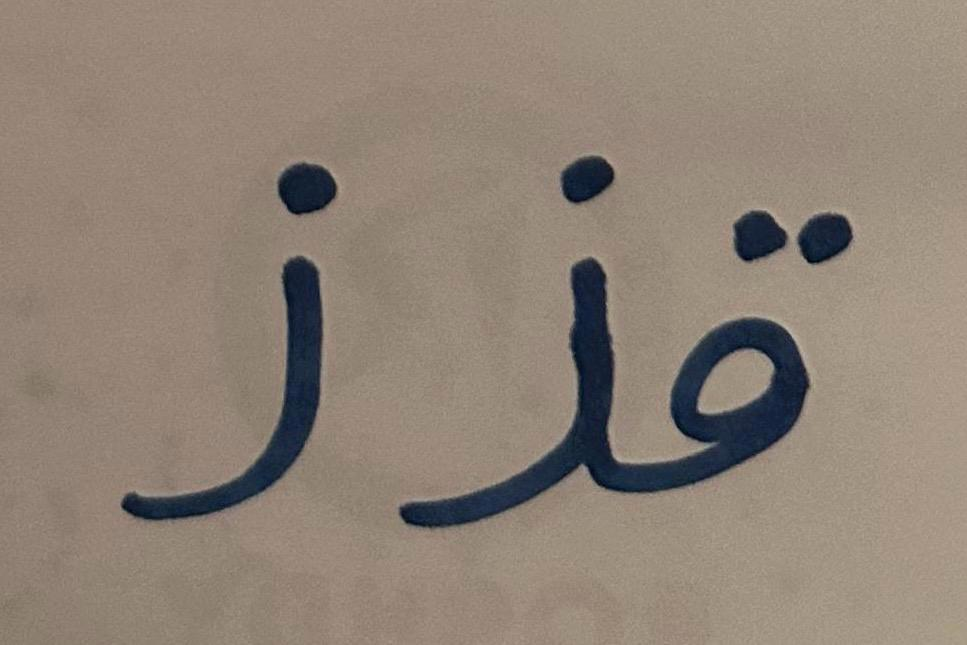ain: (60, 57, 367, 583), (372, 130, 644, 566)
reh: (648, 145, 894, 563)
